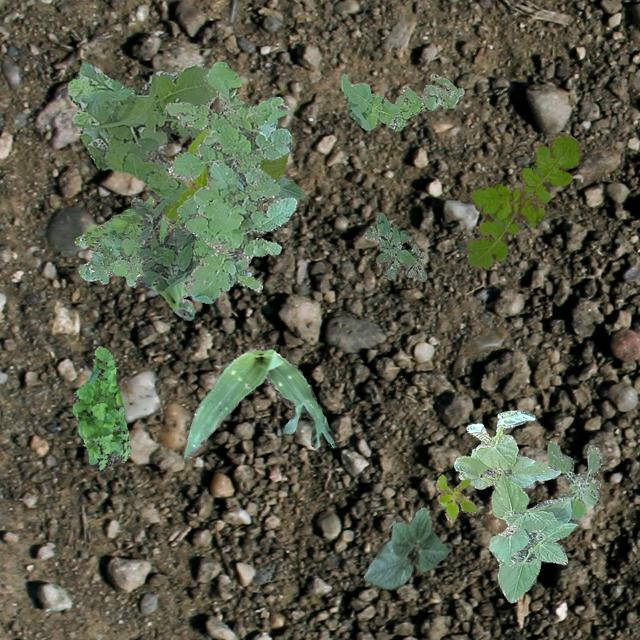crop: (452, 409, 576, 602), (182, 347, 334, 458), (162, 150, 288, 216), (362, 506, 450, 588), (165, 128, 208, 218), (148, 280, 194, 320), (256, 174, 304, 206)
weed: (164, 60, 296, 302), (66, 60, 218, 204), (464, 130, 580, 268), (73, 195, 233, 286), (72, 346, 130, 472), (339, 72, 464, 130), (130, 194, 198, 290), (364, 212, 426, 280), (546, 440, 600, 518), (434, 474, 476, 520)
